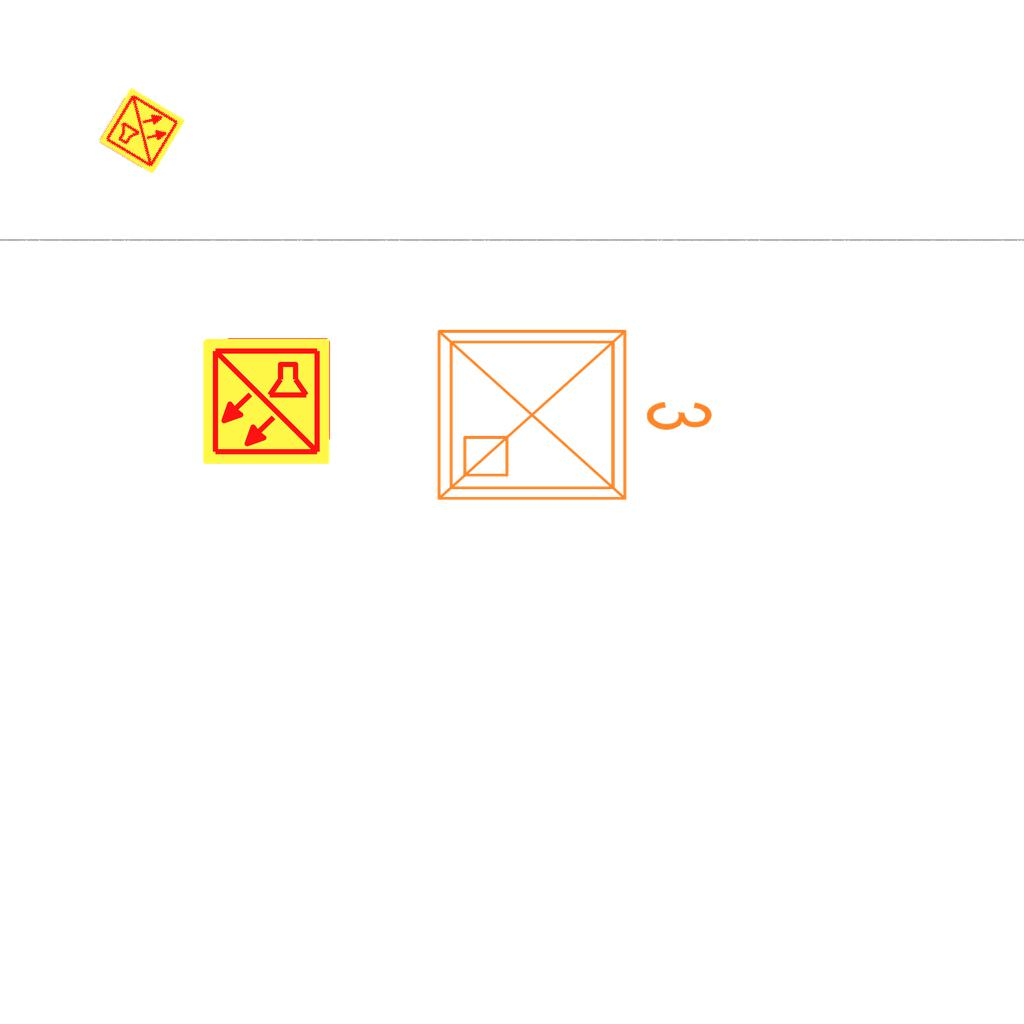Einbaudownlights_LED_Konferenzraeume: (423, 307, 723, 515)
OKW_Multisensormelder_(Kombination_optischer_Rauch-Kahlenmonoxid_Waerme-Melder): (200, 335, 332, 467), (96, 85, 188, 177)
